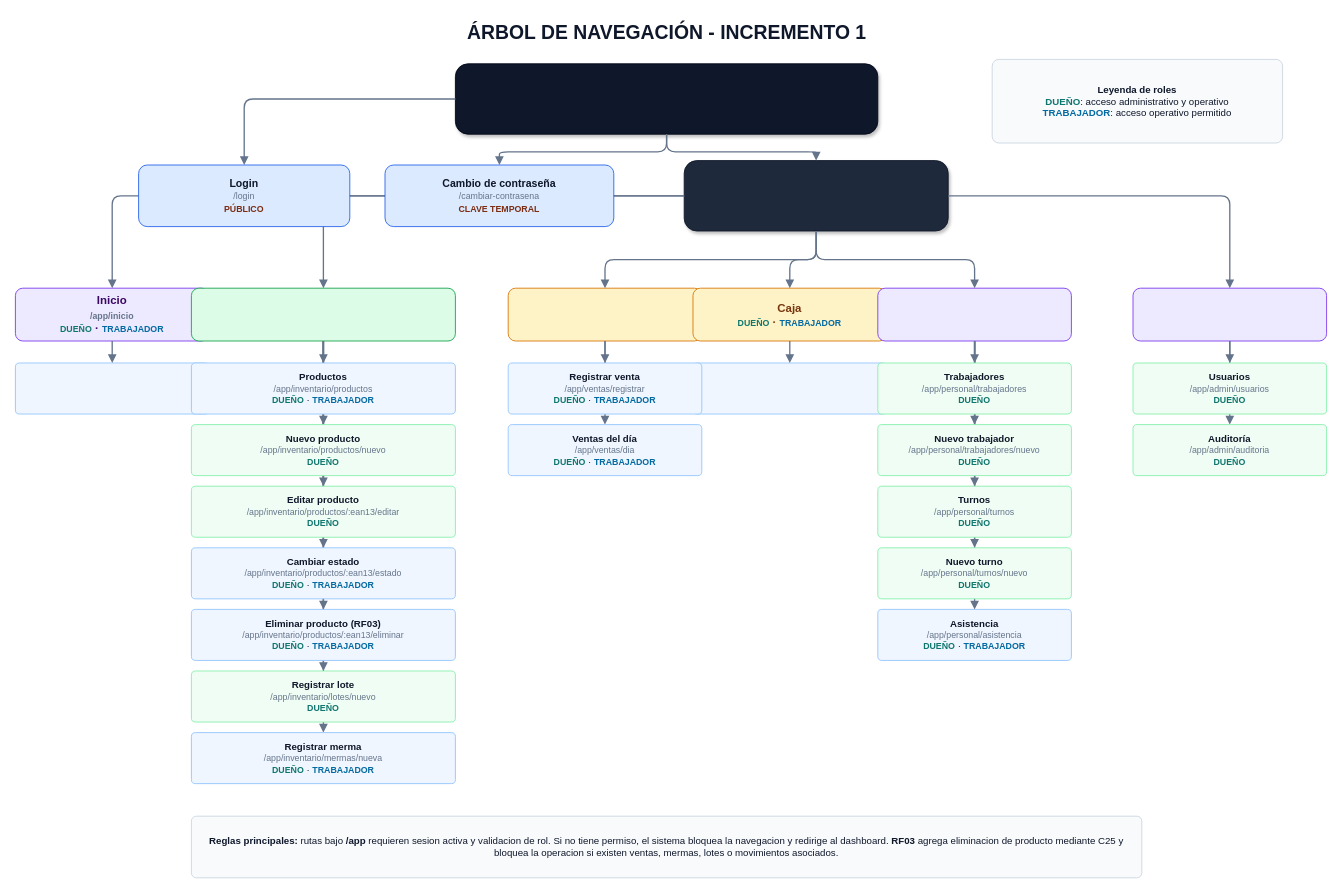
Image size: 1342x893. Some labels were removed from this diagram. Each missing label, with the centre of its shape:
Administración DUEÑO: [1229,314]
Cierre de caja /app/caja/cierre DUEÑO · TRABAJADOR: [789,388]
Dashboard /app/inicio DUEÑO · TRABAJADOR: [112,388]
Inventario DUEÑO · TRABAJADOR: [323,314]
Personal DUEÑO: [974,314]
Shell autenticado /app DUEÑO · TRABAJADOR: [816,196]
Sistema de Gestión Operativa Minimarket y Panadería Huáscar: [667,99]
Ventas DUEÑO · TRABAJADOR: [604,314]
